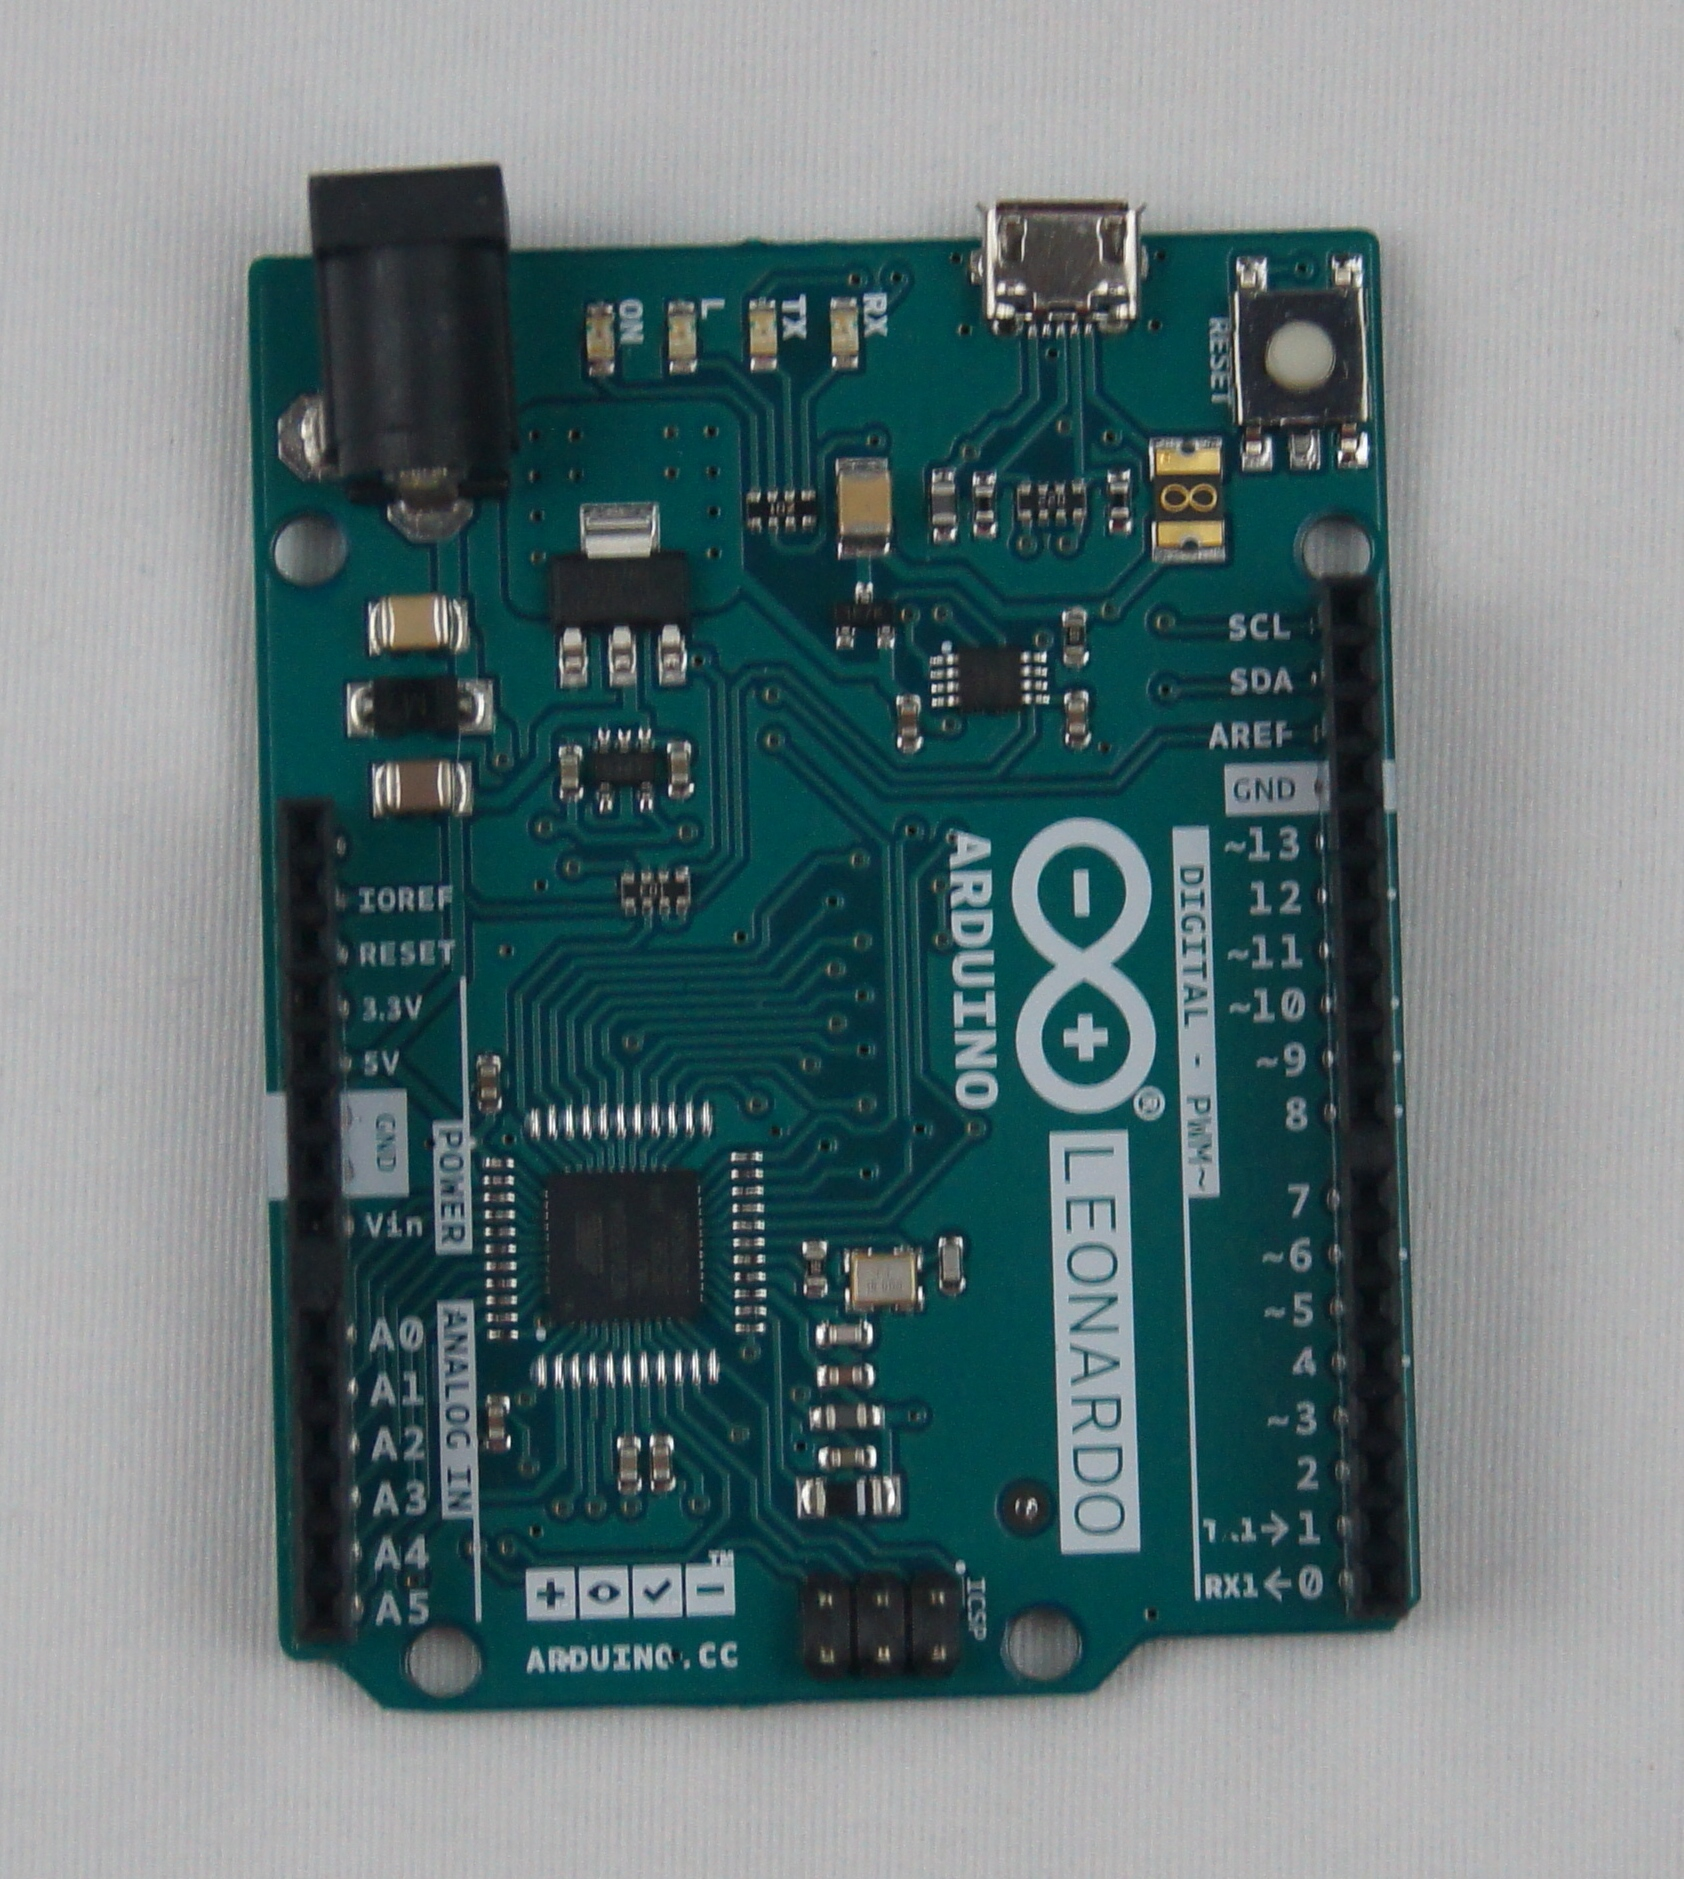kondensator: (835, 453, 897, 558), (362, 592, 462, 650), (364, 761, 470, 813), (927, 1230, 977, 1294), (1060, 688, 1096, 738), (814, 1404, 888, 1429), (892, 694, 925, 738), (483, 1391, 510, 1442), (819, 1317, 870, 1344), (818, 1360, 870, 1386), (608, 1432, 636, 1481), (475, 1060, 502, 1105), (645, 1432, 666, 1487), (814, 1447, 875, 1465)
